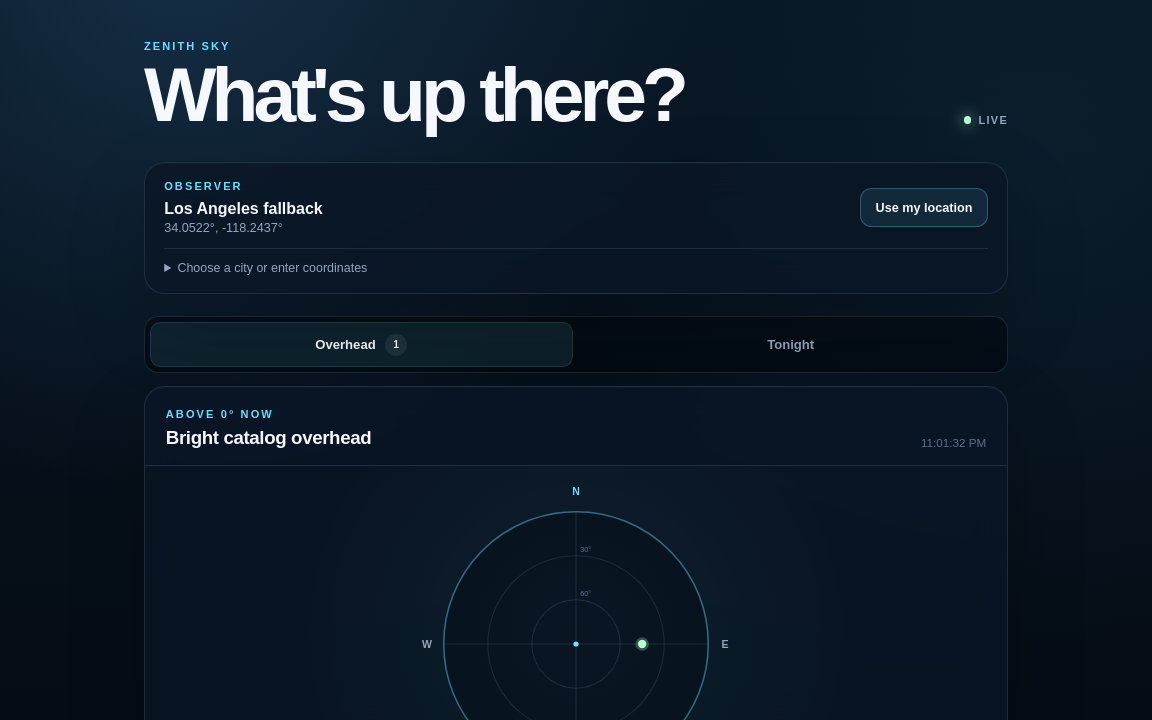
it: SkyApp location controls › requests one high-accuracy fix and saves its accuracy
Click the button "Use my location".
click(924, 208)  # box left=860, top=188, right=988, bottom=227
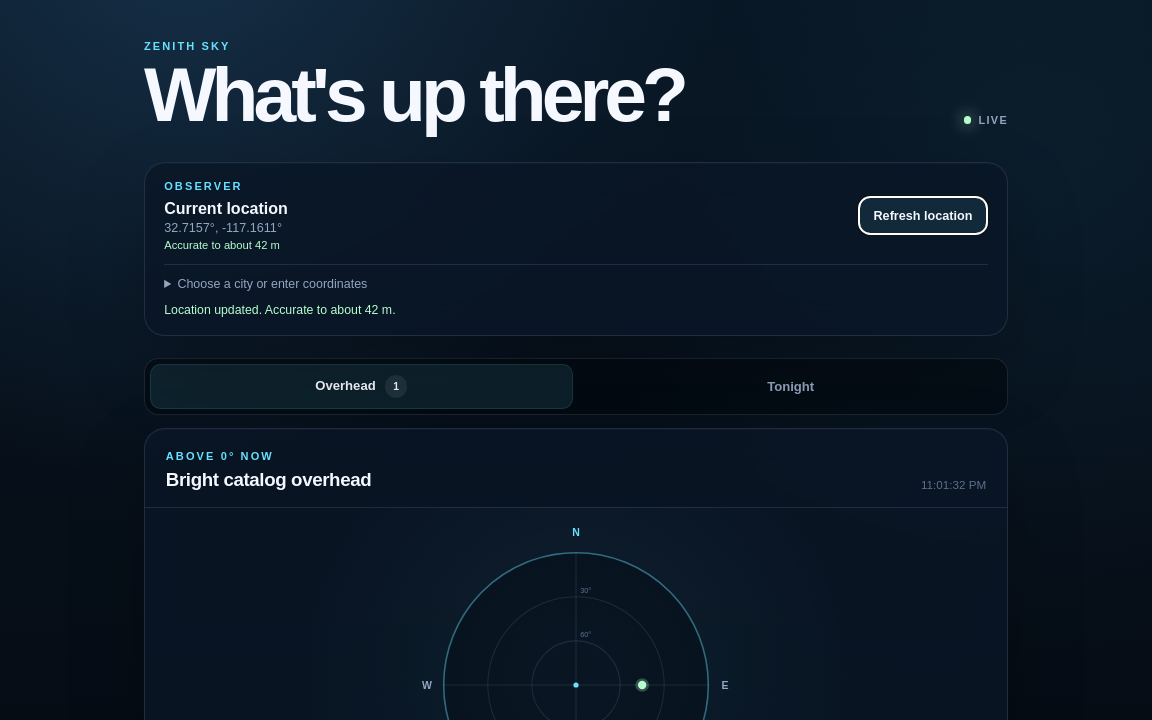
Now the text "Accurate to about 42 m" is shown, box left=164, top=239, right=288, bottom=251
Now the button "Refresh location" is shown, box left=858, top=196, right=988, bottom=235
